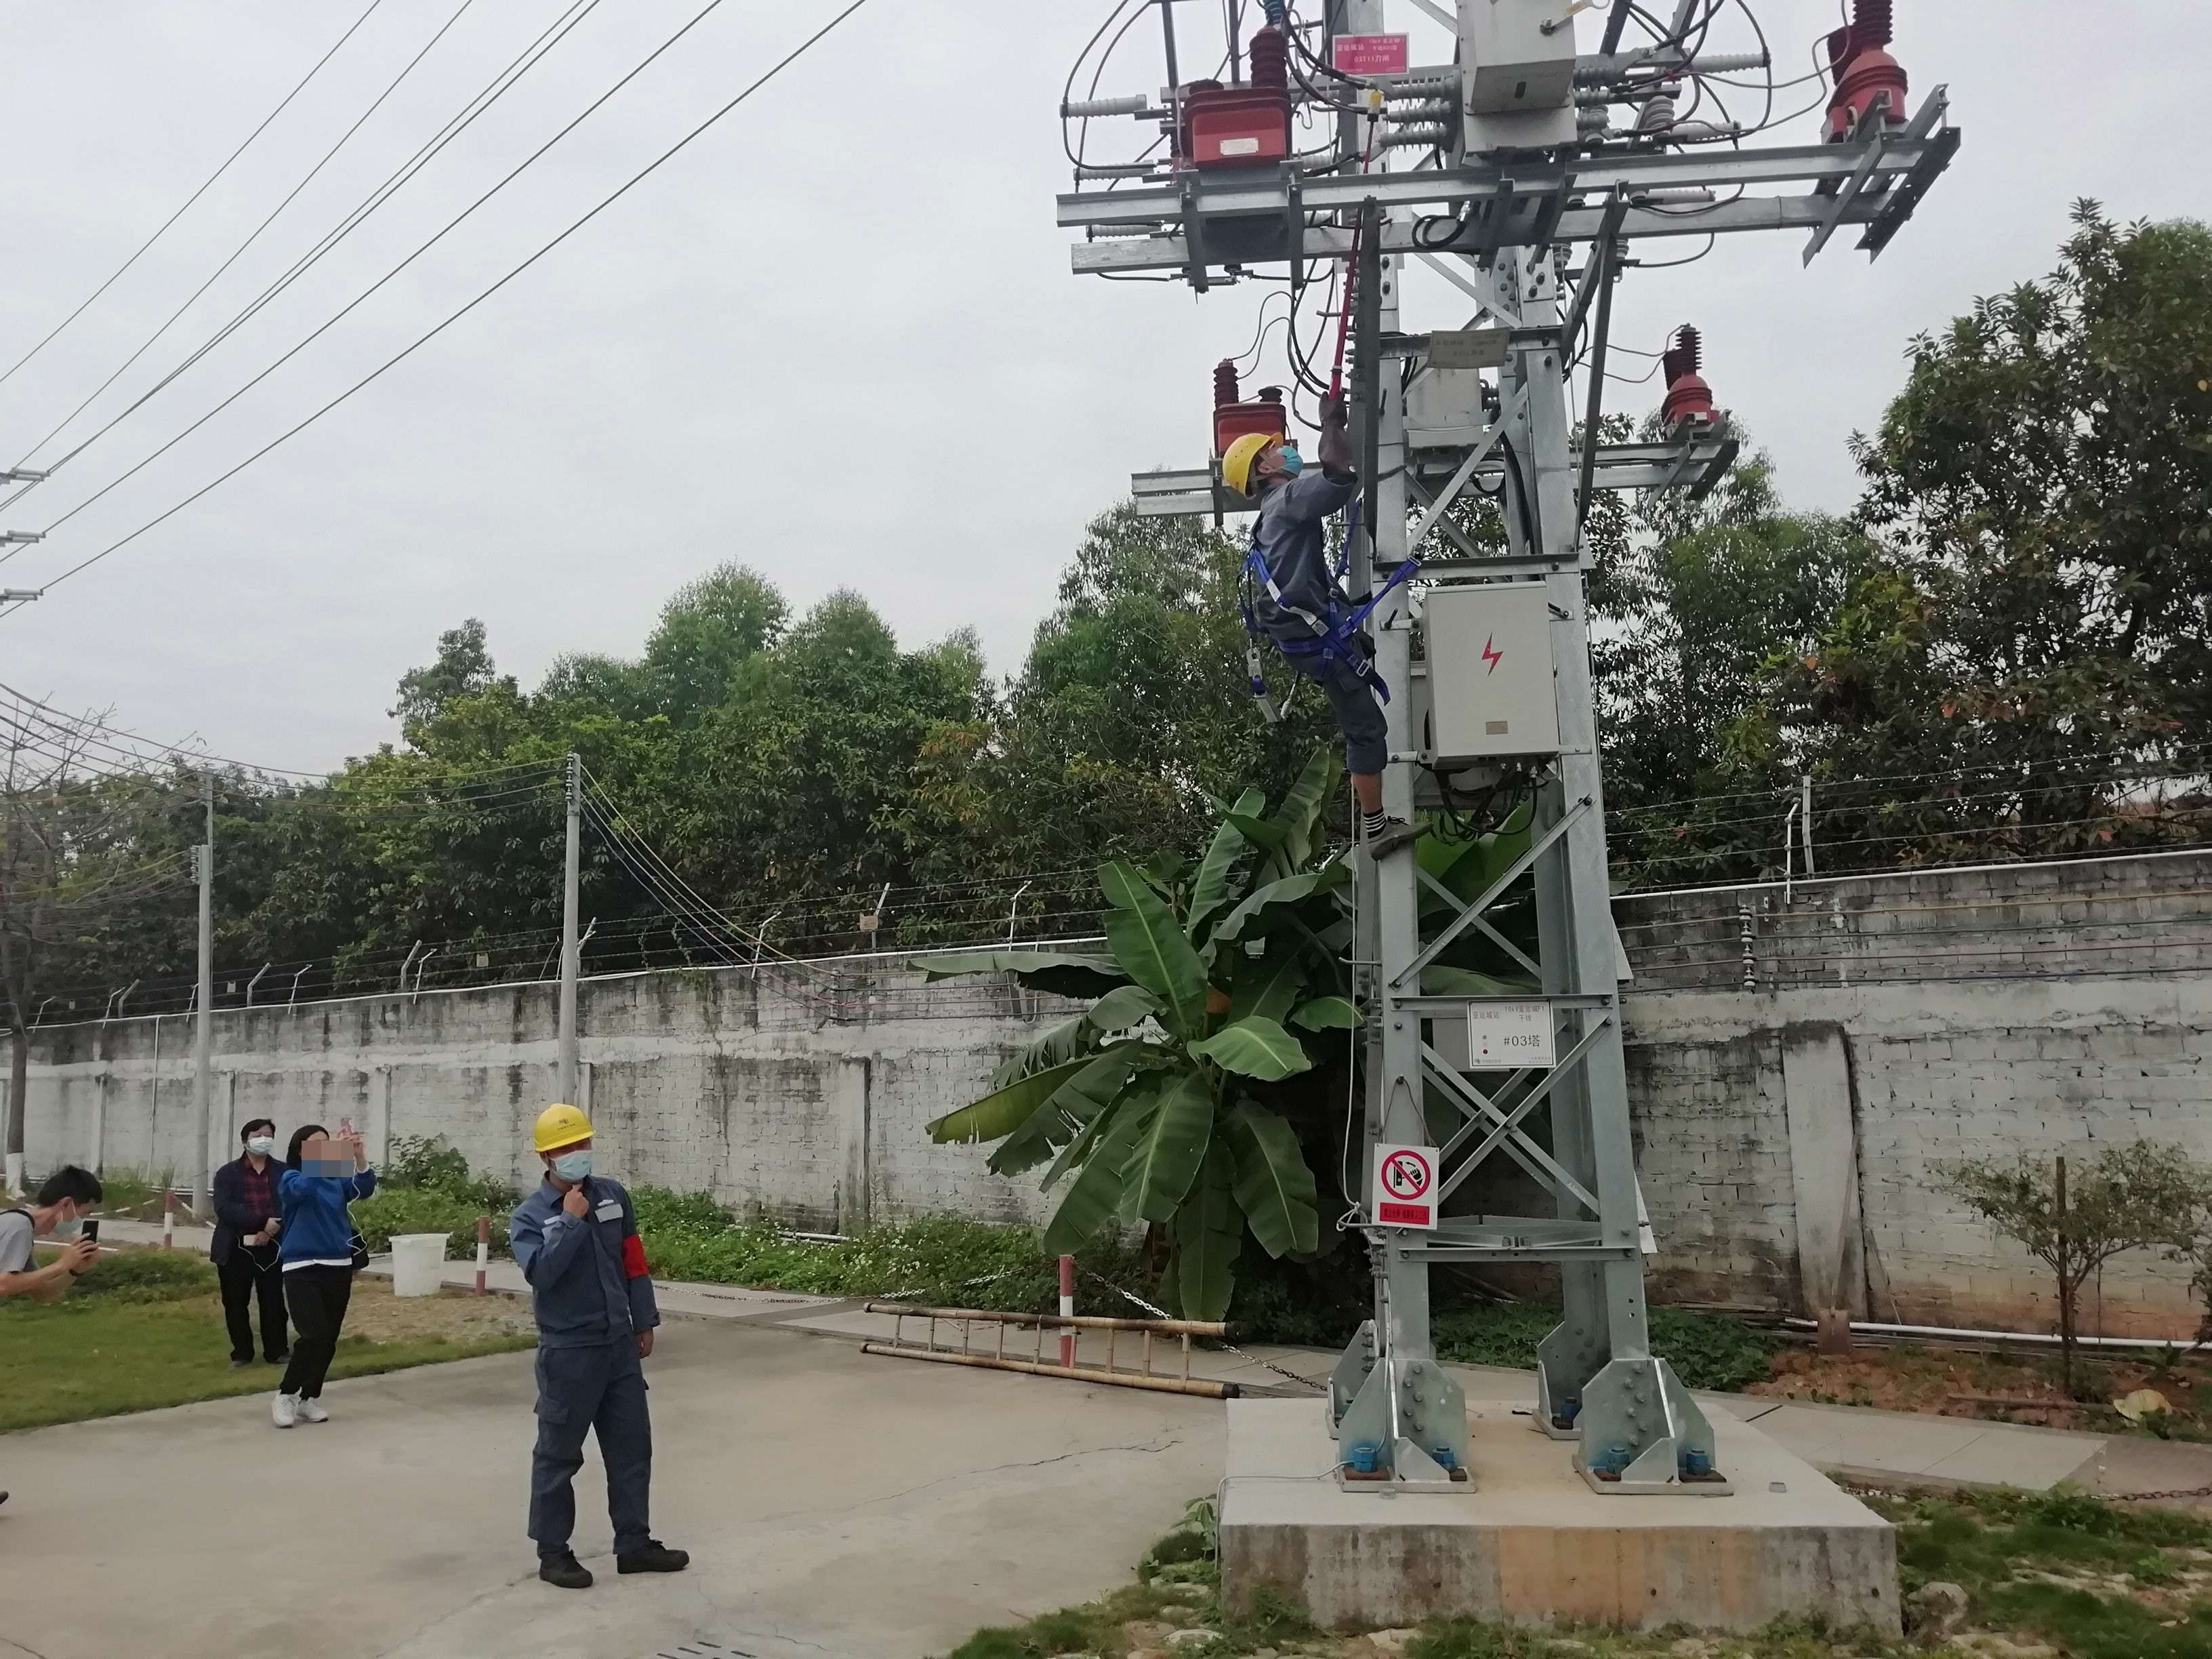downcloth: (282, 1272, 354, 1396), (218, 1260, 275, 1354)
downsuit: (528, 1352, 662, 1549), (1289, 640, 1397, 857)
upcloth: (279, 1169, 366, 1267), (212, 1166, 275, 1255)
upsuit: (507, 1182, 658, 1344), (1251, 477, 1353, 631)
wrongbottom: (1345, 744, 1390, 829)
